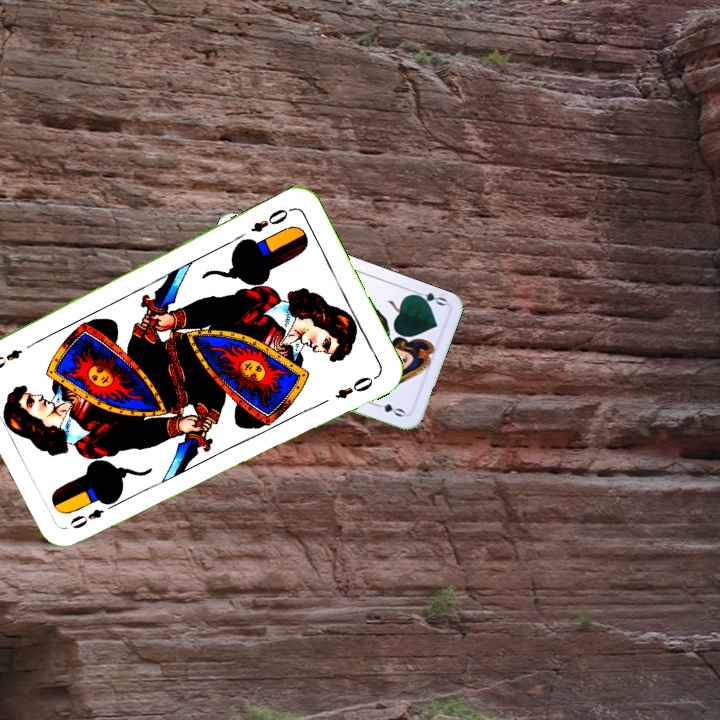EO: (247, 203, 295, 235), (65, 505, 107, 532)
GO: (408, 286, 449, 308)
